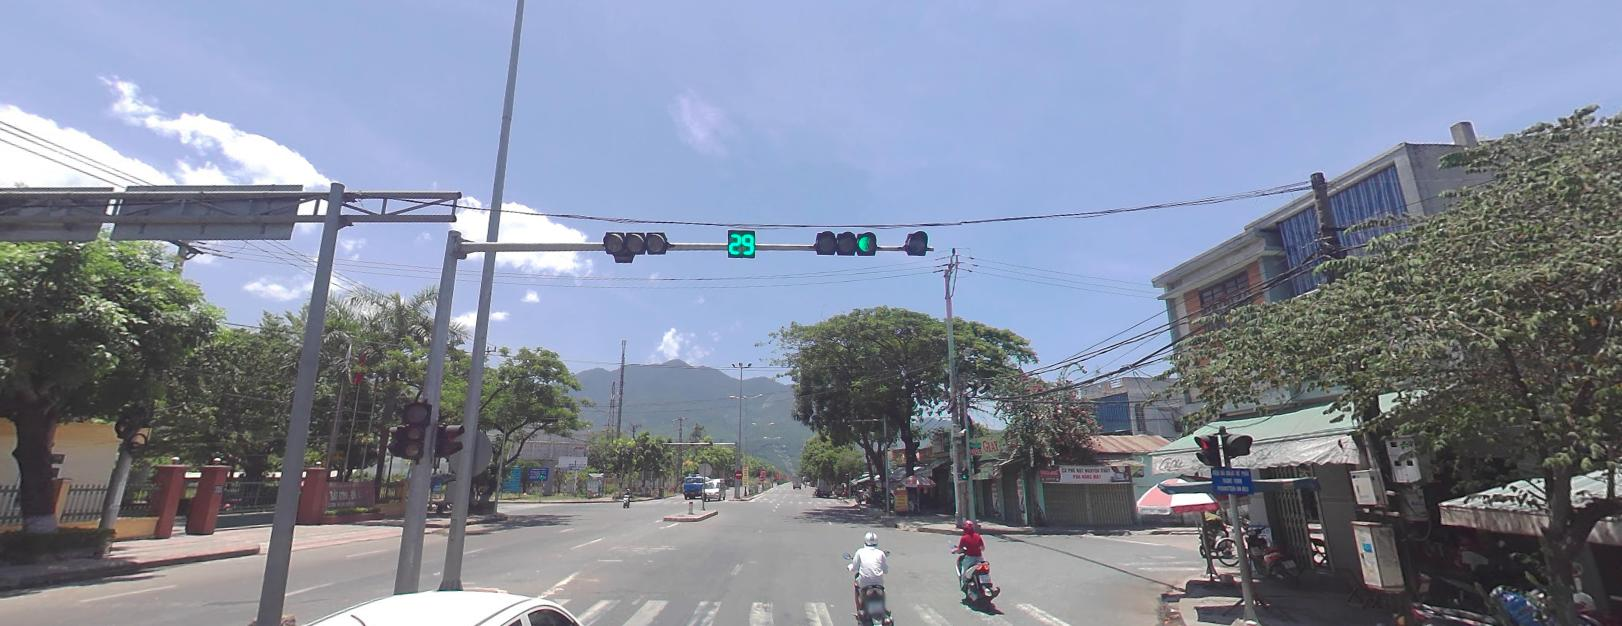Cam nguoc chieu: (734, 469, 742, 477)
